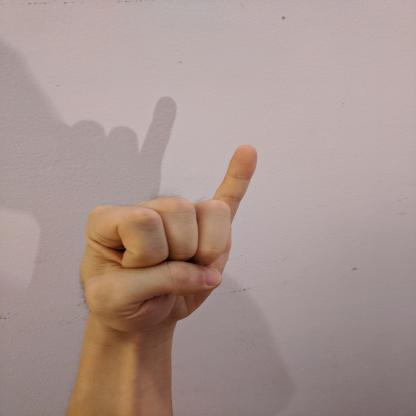I: (76, 142, 262, 334)
